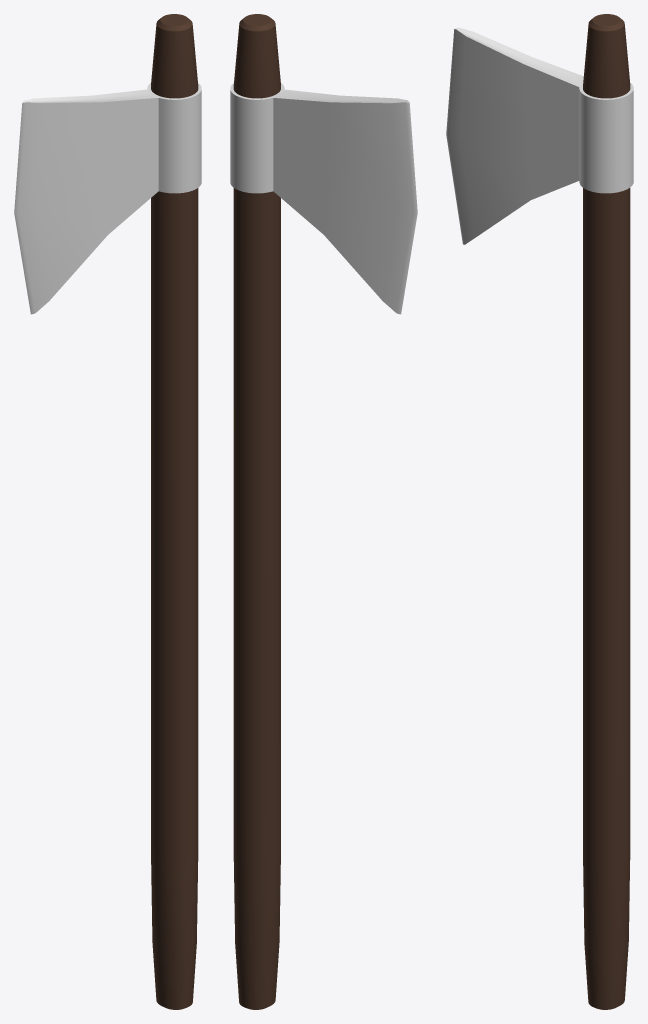
Rendered from axe.gltf.
3 views of the same model, side by side, from view 1: azimuth 30°, elevation 25°; view 2: azimuth 150°, elevation 25°; view 3: azimuth 330°, elevation 25° (orthographic).
Visible parts, largest first — view 1: Grip; view 2: Grip; view 3: Grip.
Boxes of the visible parts, box(x1,y1,x2,y2) form: Grip: box(14, 14, 201, 1009); Grip: box(230, 14, 417, 1009); Grip: box(446, 14, 633, 1009).
Size of the model in its own units: 0.1078 by 0.551 by 0.0279.
